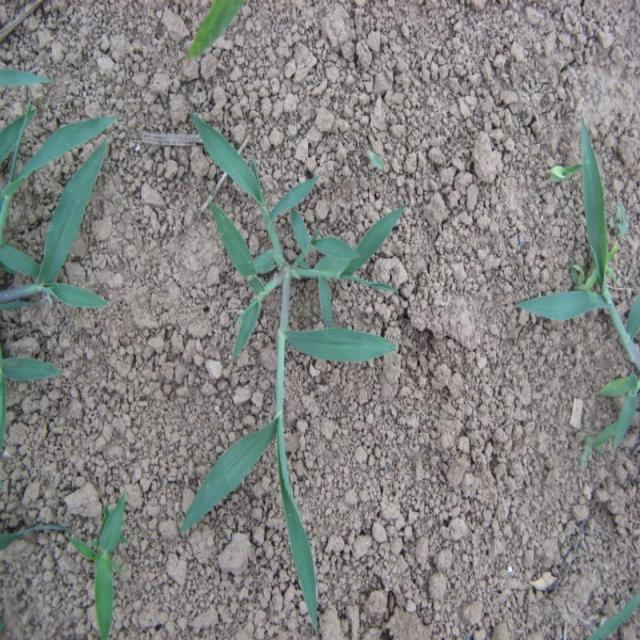bg: (182, 111, 408, 625)
